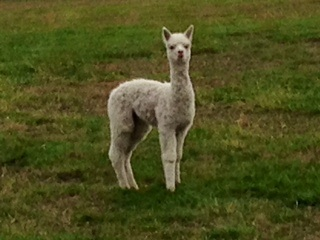alpaca: (106, 24, 196, 193)
